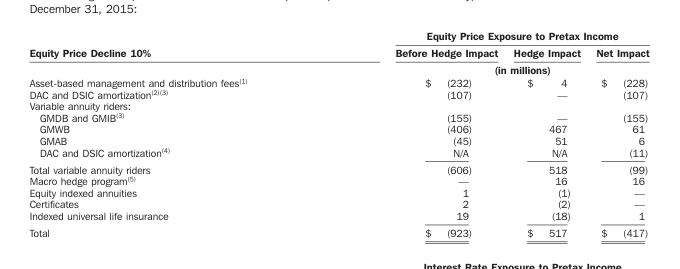table: (28, 29, 648, 238)
table column: (28, 29, 320, 238), (320, 29, 505, 238), (505, 29, 587, 238), (587, 29, 648, 238)
table column header: (28, 29, 648, 75)
table projected row header: (28, 99, 648, 111)
table row: (28, 44, 648, 60), (28, 29, 648, 44), (28, 60, 648, 75), (28, 223, 648, 238), (28, 146, 648, 160), (28, 160, 648, 174), (28, 209, 648, 223), (28, 75, 648, 87), (28, 87, 648, 99), (28, 99, 648, 111), (28, 122, 648, 134), (28, 134, 648, 146), (28, 174, 648, 186), (28, 197, 648, 209), (28, 111, 648, 122), (28, 186, 648, 197)
table spanning cell: (28, 29, 320, 75), (320, 29, 648, 44), (320, 60, 648, 75)
